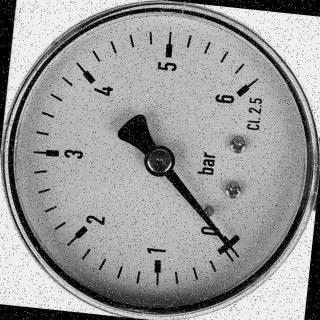gauge: (0, 0, 320, 320), (221, 74, 258, 108), (142, 143, 176, 178), (209, 227, 243, 259), (222, 240, 244, 262)
